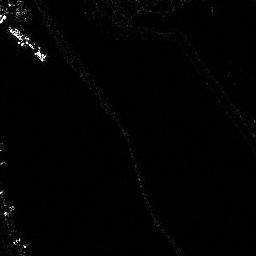ship: (9, 25, 47, 61)
